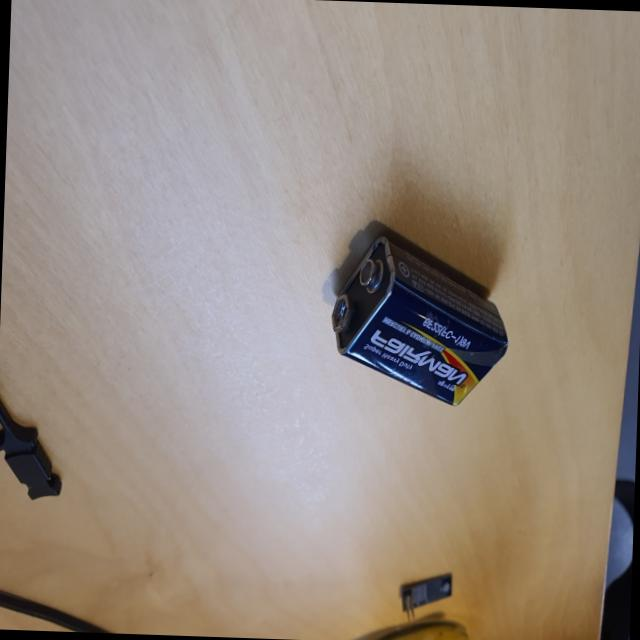battery-etc-etc: (318, 230, 538, 420)
